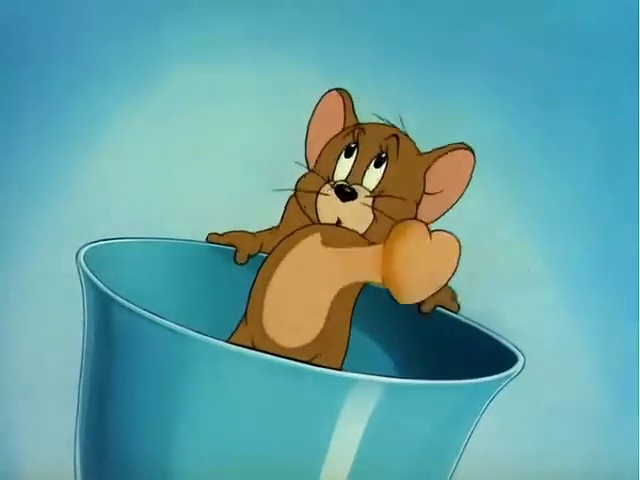jerry: (175, 51, 524, 379)
